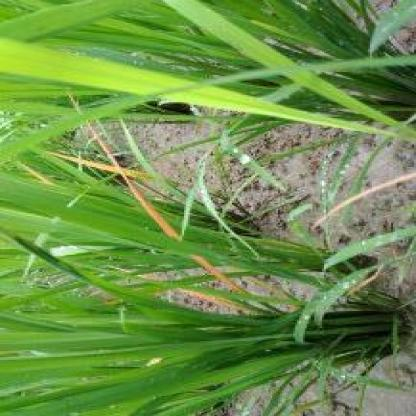Tungro: (2, 40, 402, 129)
